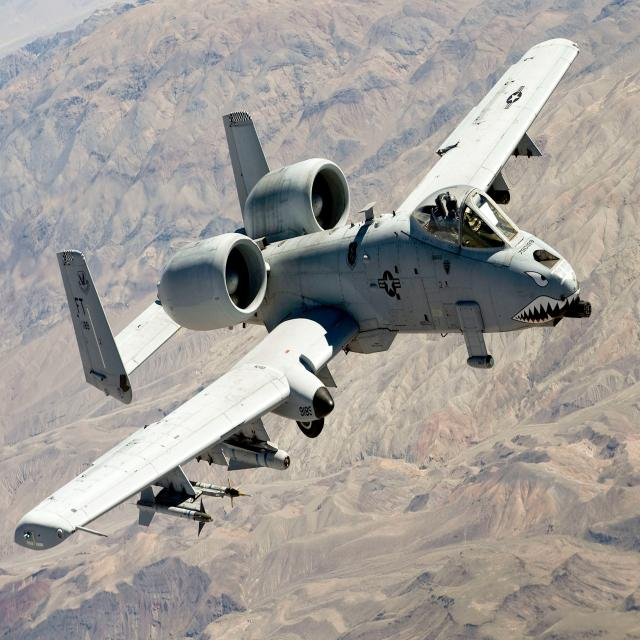A10: (12, 16, 616, 566)
